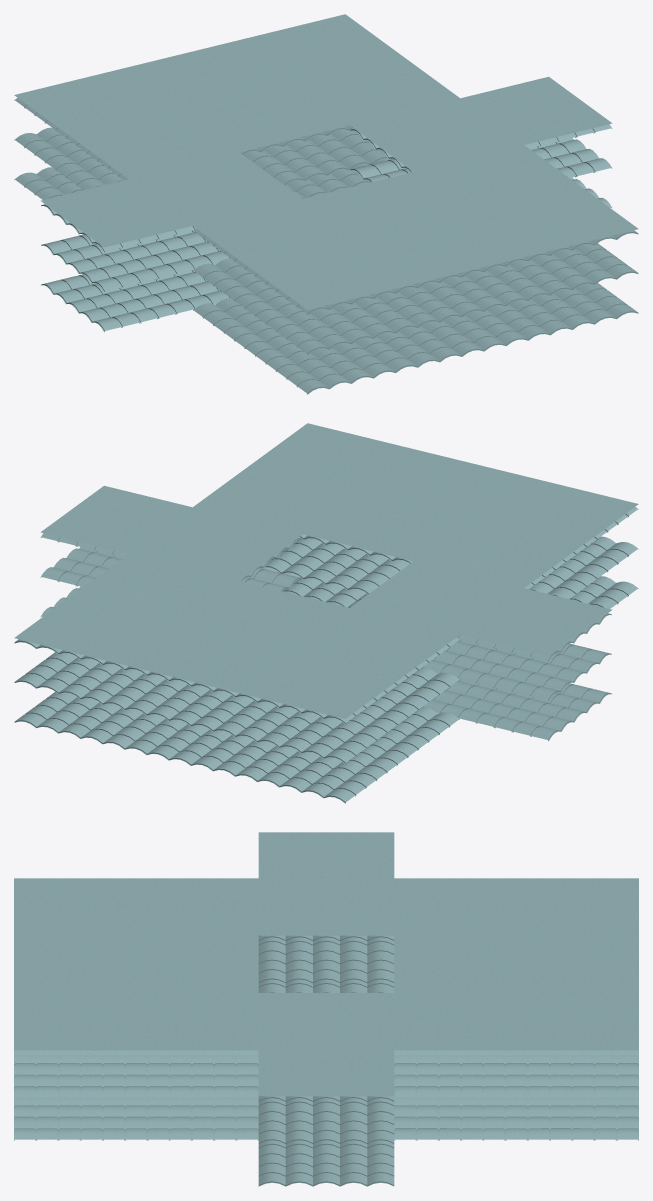
The model's file is FinalMap_Roof.FBX.
3 renders of one model, top to bottom at view 1: azimuth 30°, elevation 25°; view 2: azimuth 150°, elevation 25°; view 3: azimuth 270°, elevation 25°, orthographic. The views are drawn at different scales.
Parts seen in each view (by area): view 1: FinalMap_Roof; view 2: FinalMap_Roof; view 3: FinalMap_Roof.
Part boxes in pixels (<box>): FinalMap_Roof: <box>14,14,638,394</box>; FinalMap_Roof: <box>14,423,638,803</box>; FinalMap_Roof: <box>14,832,638,1186</box>.
Bounding box in the file's own units: 6330 × 1009 × 6330.
1 material, 1 textured.
